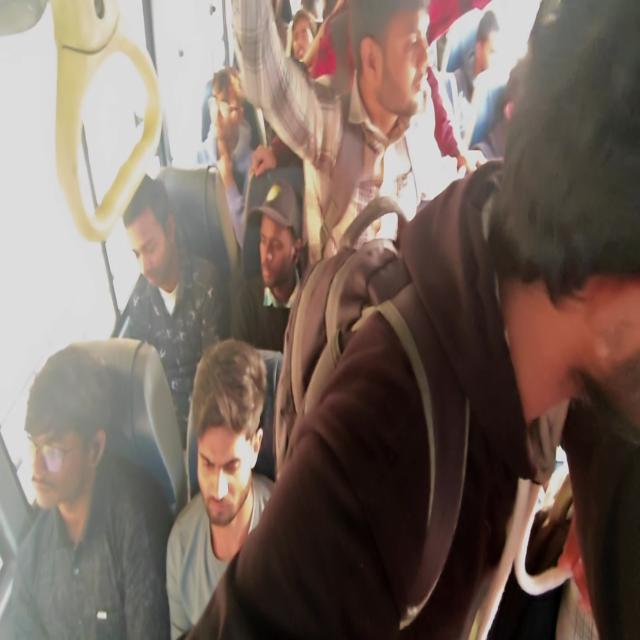person: (553, 28, 629, 392), (190, 361, 269, 544), (21, 380, 111, 512), (350, 3, 428, 97), (122, 184, 184, 292), (204, 72, 258, 148), (259, 193, 299, 290), (500, 75, 534, 140), (288, 7, 316, 63), (475, 20, 504, 74)
